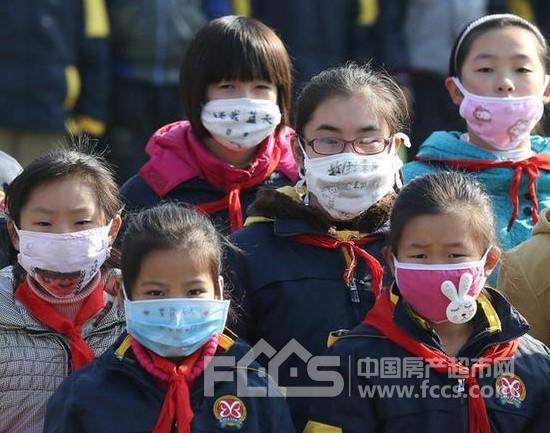OK: (301, 122, 397, 218), (15, 205, 109, 299), (195, 65, 288, 158), (397, 233, 487, 323), (127, 275, 211, 359)
WRONG: (449, 50, 546, 147)
